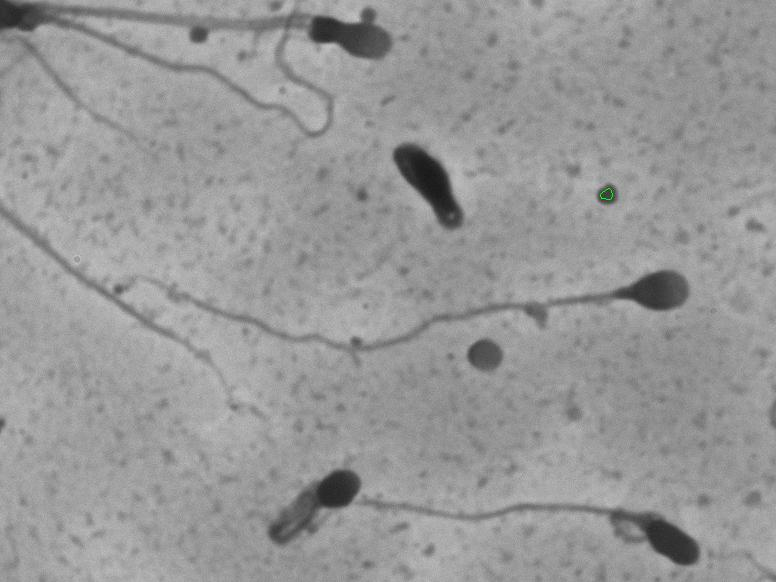Abnormal: (375, 466, 716, 574), (370, 120, 503, 254), (261, 446, 366, 551)
Normal: (115, 256, 705, 370)
